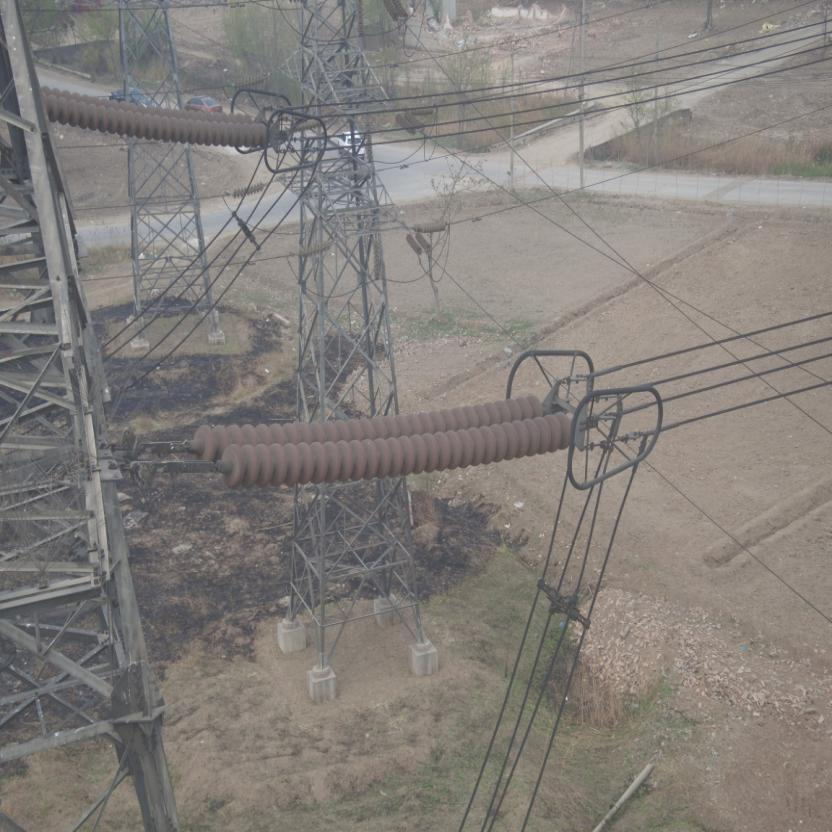insulator: (163, 387, 579, 490), (40, 78, 272, 147)
